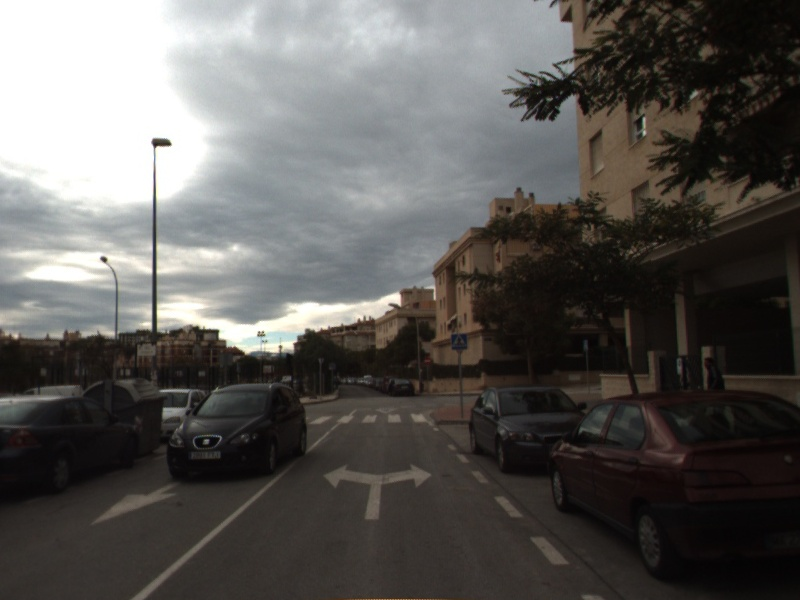LEFT_RIGHT: (320, 461, 434, 522)
